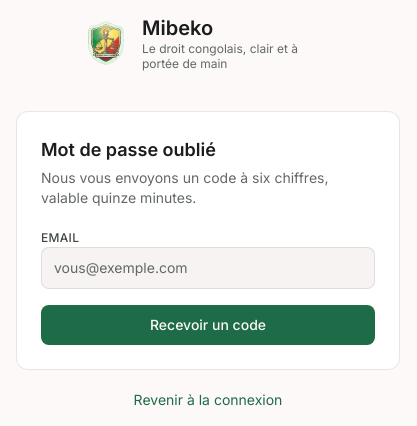
Test: ForgotPasswordPage › affiche le même message que le compte existe ou non
The image size is (417, 426).
Type "inconnu@exemple.com" into the field with placeholder "vous@exemple.com". click: (208, 268)
box: [41,247,375,289]
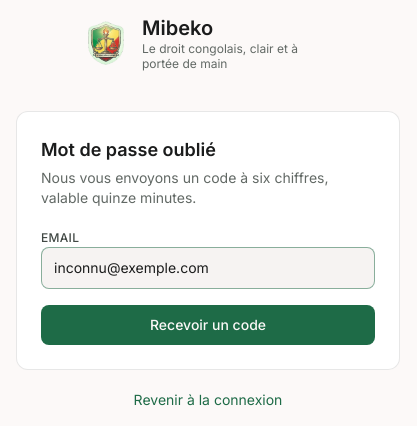
Click the button "Recevoir un code". click: (208, 325)
box: [41,305,375,345]
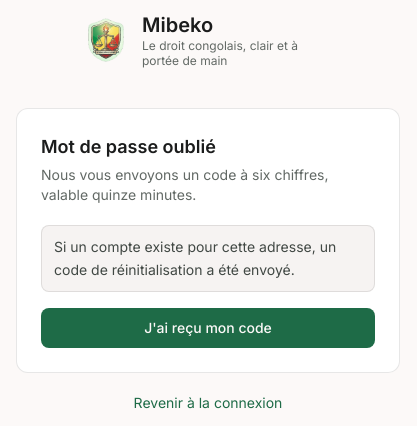
Check: the message shows "Si un compte existe pour cette adresse, un code de réinitialisation a été envoyé.", box [54,238,336,278]
